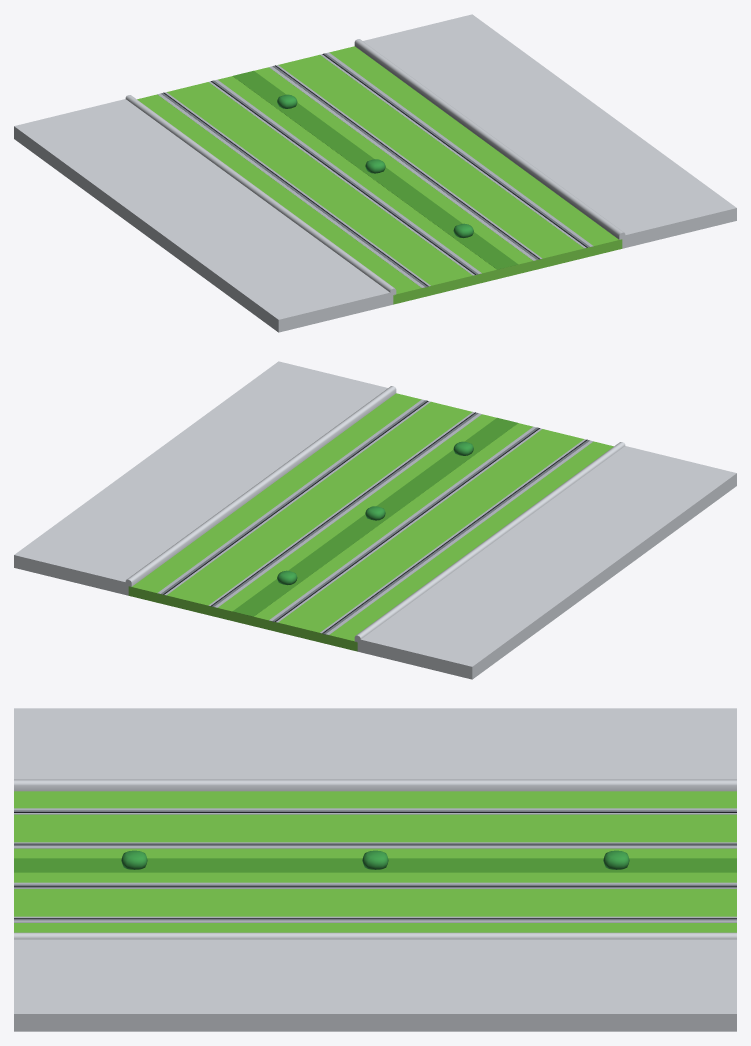
File: bonde_grama.glb
3 views of the same model, one above another, from view 1: azimuth 30°, elevation 25°; view 2: azimuth 150°, elevation 25°; view 3: azimuth 270°, elevation 25° (orthographic). The views are drawn at different scales.
Visible parts, largest first — view 1: bonde_grama; view 2: bonde_grama; view 3: bonde_grama.
Part boxes in pixels (x1,y1,x2,y2): bonde_grama: (14,14,736,332); bonde_grama: (14,361,736,679); bonde_grama: (14,708,736,1031).
Size of the model in its own units: 15 by 0.58 by 15.
Materials: 1 (1 with a texture image).
